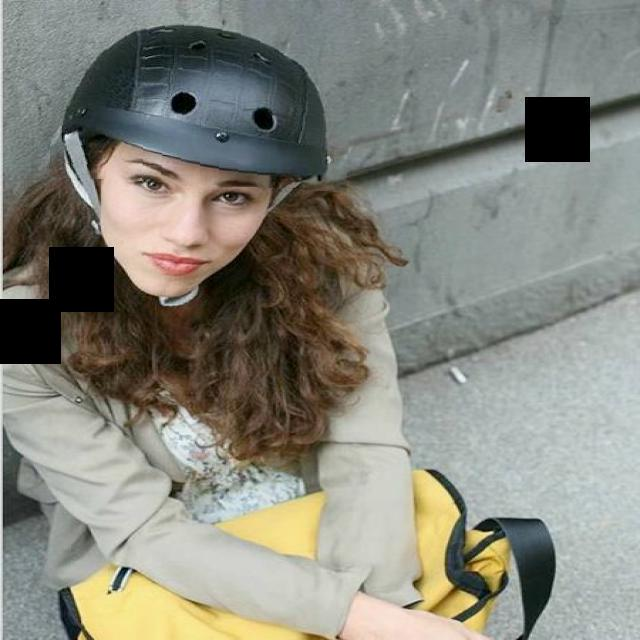helmet: (51, 11, 353, 189)
